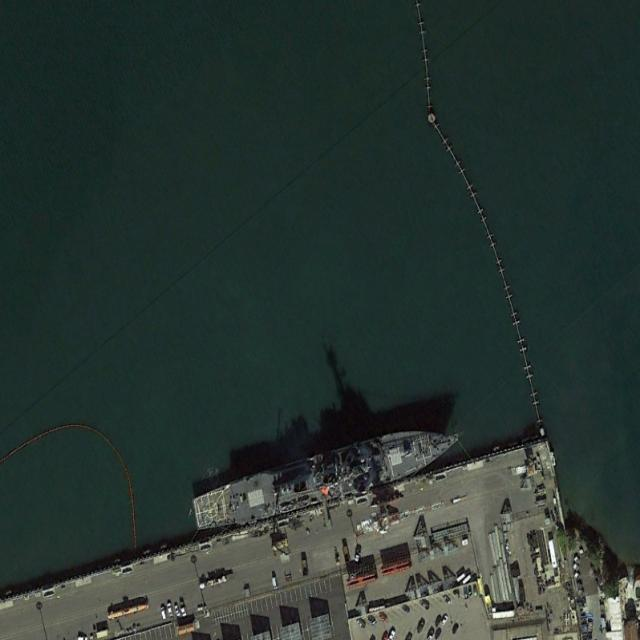Destroyer: (189, 409, 464, 539)
